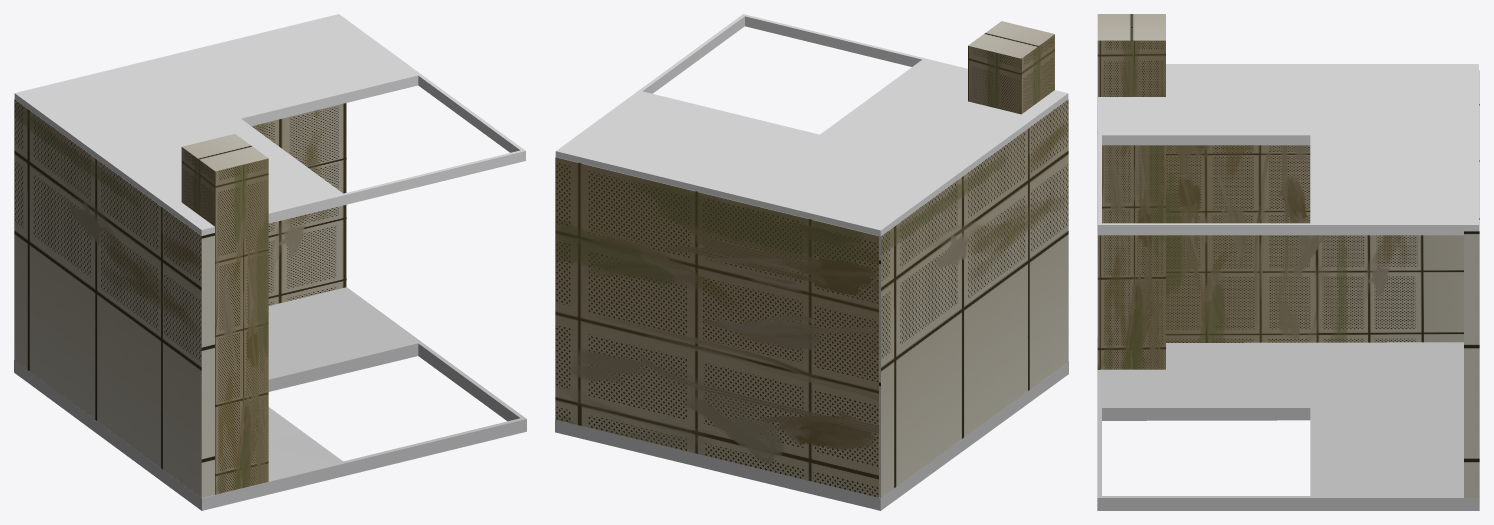
3 views of the same model, side by side, from view 1: azimuth 30°, elevation 25°; view 2: azimuth 150°, elevation 25°; view 3: azimuth 270°, elevation 25° (orthographic).
Parts seen in each view (by area): view 1: ParedTrasera, Techo, SuelosYMurallas, Pilar, ParedDerecha; view 2: ParedDerecha, ParedTrasera, Techo, SuelosYMurallas, Pilar; view 3: Techo, SuelosYMurallas, ParedTrasera, Pilar, ParedDerecha.
Part boxes in pixels (x1=…): ParedTrasera: x1=14, y1=99, x2=214, y2=497; Techo: x1=14, y1=14, x2=525, y2=235; SuelosYMurallas: x1=14, y1=287, x2=526, y2=510; Pilar: x1=181, y1=134, x2=268, y2=494; ParedDerecha: x1=251, y1=103, x2=346, y2=305; ParedDerecha: x1=555, y1=157, x2=878, y2=497; ParedTrasera: x1=879, y1=99, x2=1068, y2=497; Techo: x1=555, y1=14, x2=1068, y2=236; SuelosYMurallas: x1=555, y1=361, x2=1068, y2=510; Pilar: x1=968, y1=21, x2=1054, y2=114; Techo: x1=1098, y1=64, x2=1478, y2=235; SuelosYMurallas: x1=1097, y1=337, x2=1479, y2=510; ParedTrasera: x1=1166, y1=70, x2=1479, y2=342; Pilar: x1=1097, y1=14, x2=1165, y2=369; ParedDerecha: x1=1464, y1=71, x2=1479, y2=497.
Bounding box in the file's own units: 500 × 494 × 500.
